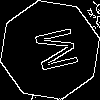M: (25, 25, 79, 76)
